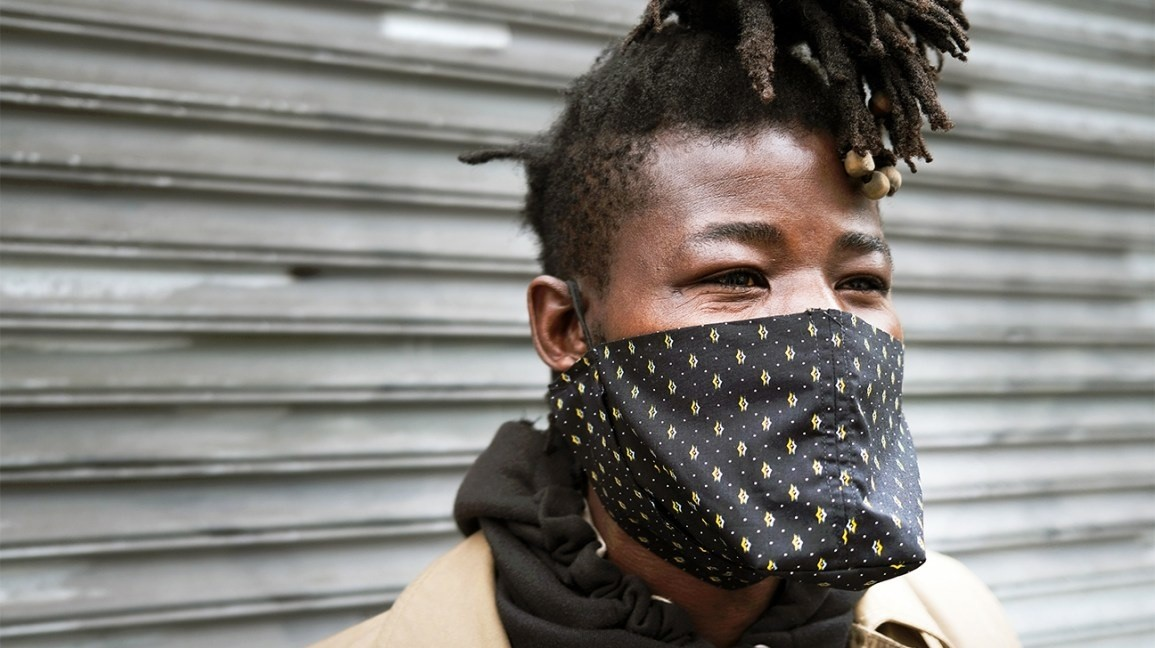face_with_mask: (539, 114, 918, 568)
